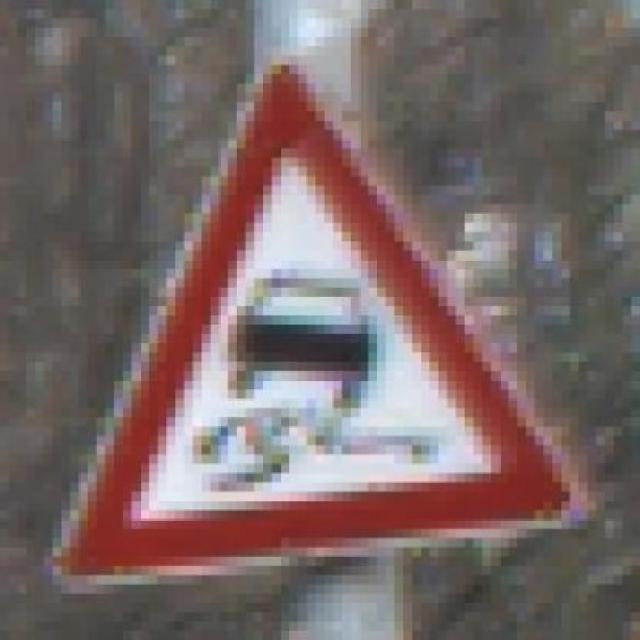Slippery Road Ahead: (35, 46, 588, 585)
